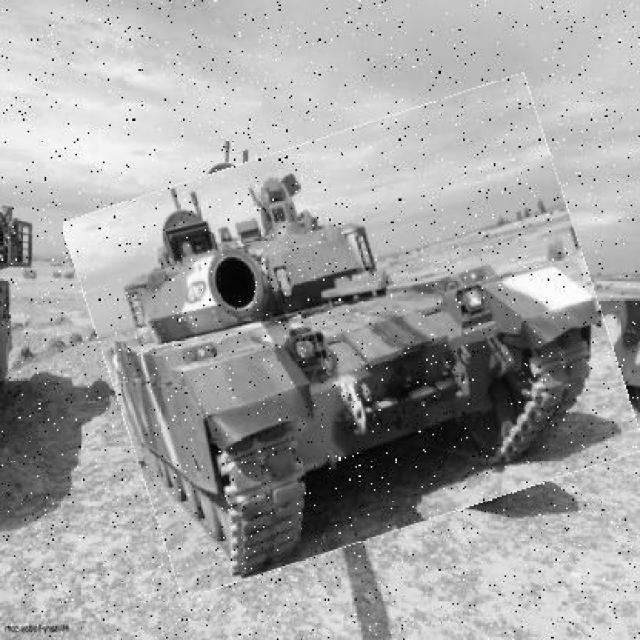Tank: (87, 107, 621, 567)
